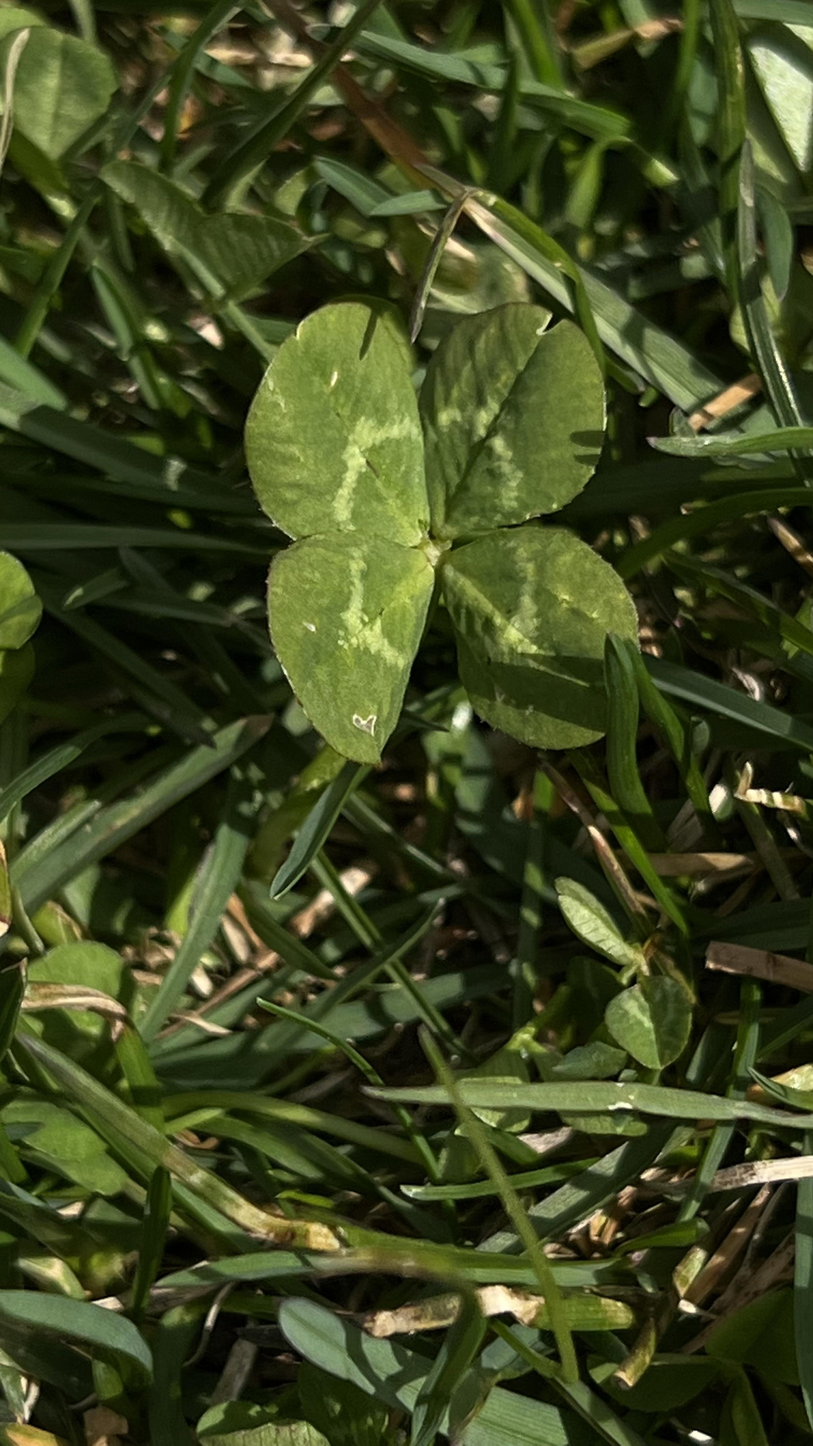4-Leaf-Clovers: (173, 300, 426, 992)
